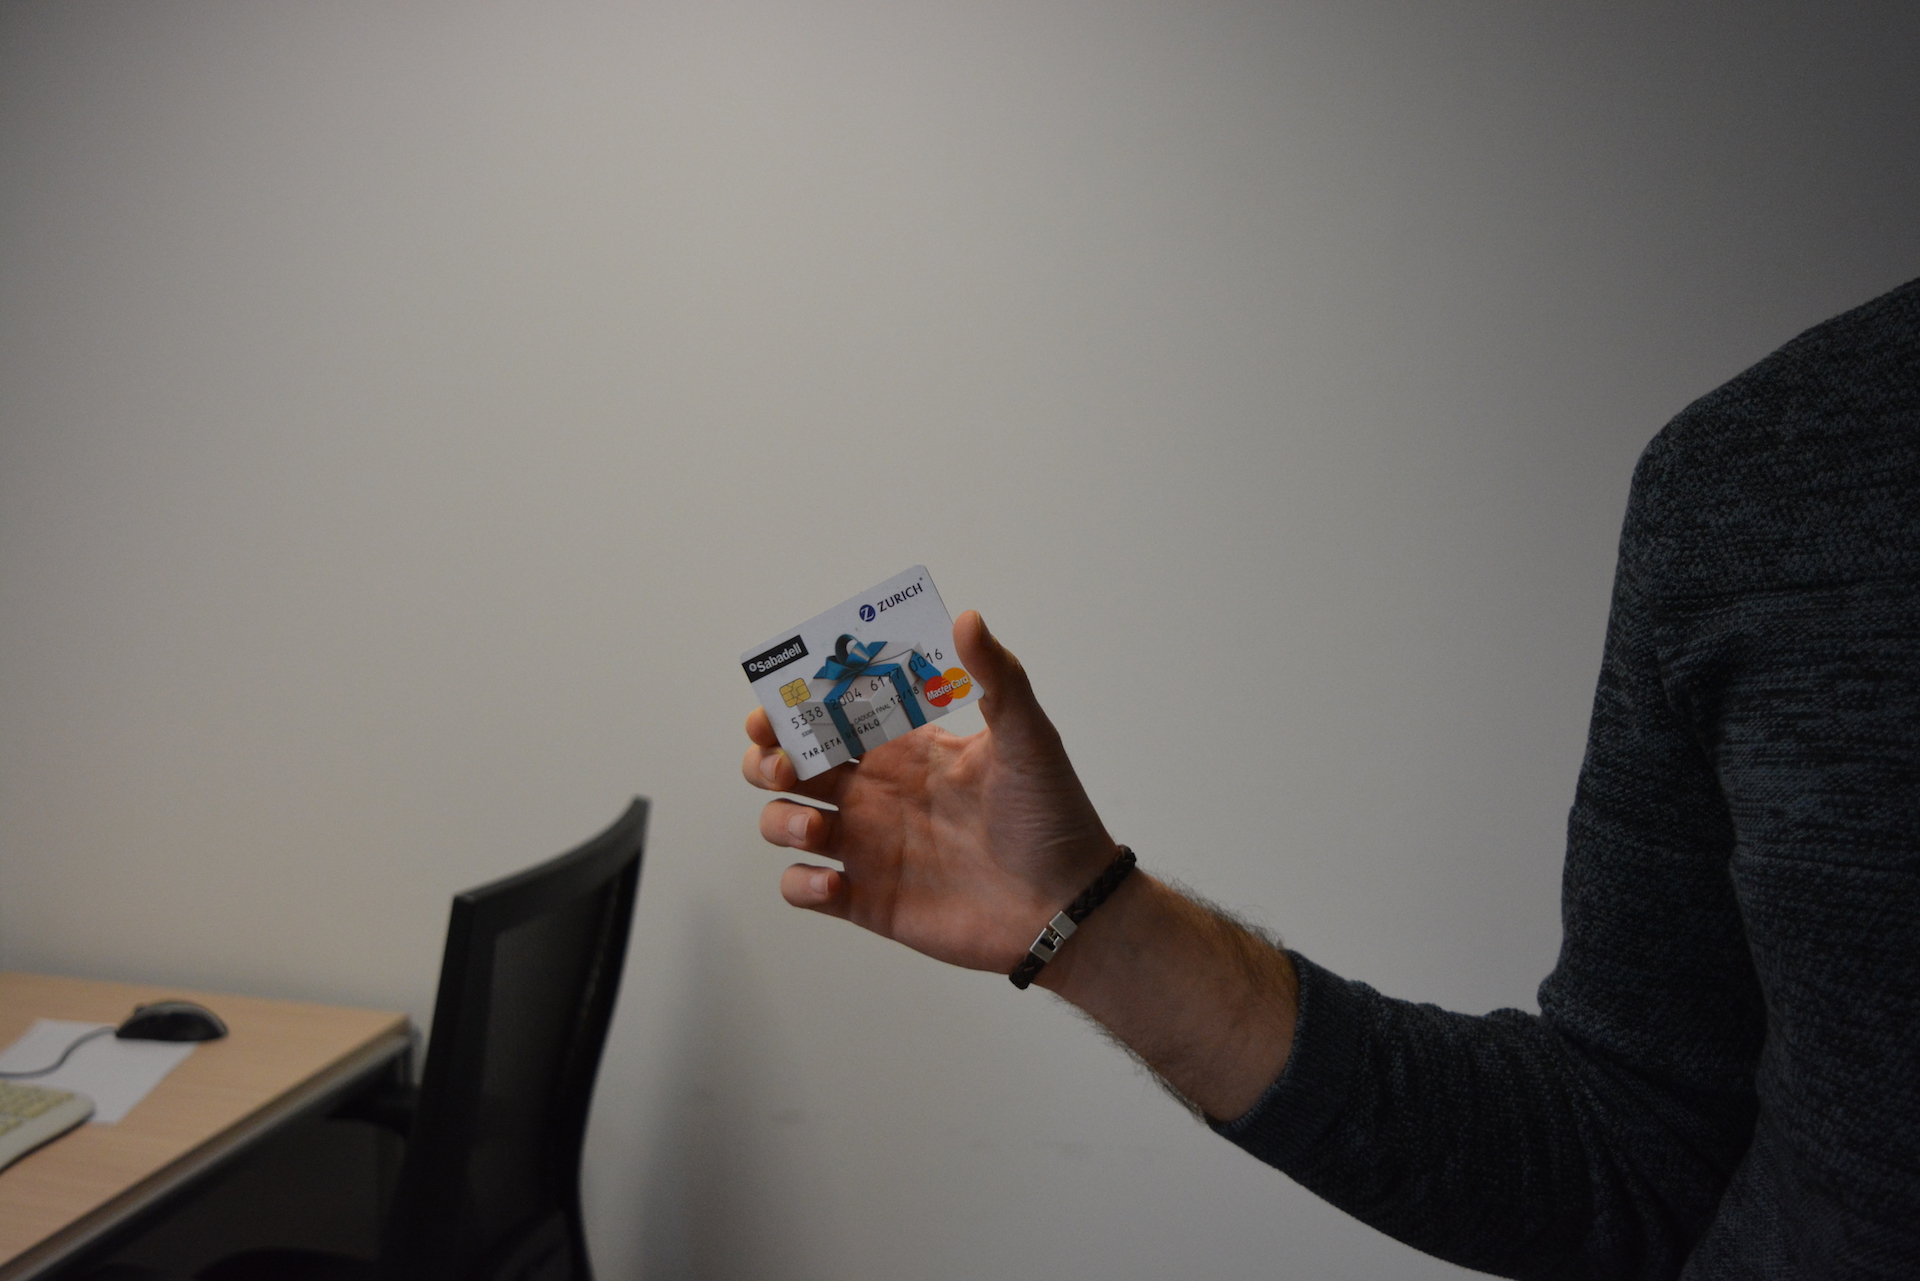tarjeta: (739, 563, 986, 783)
